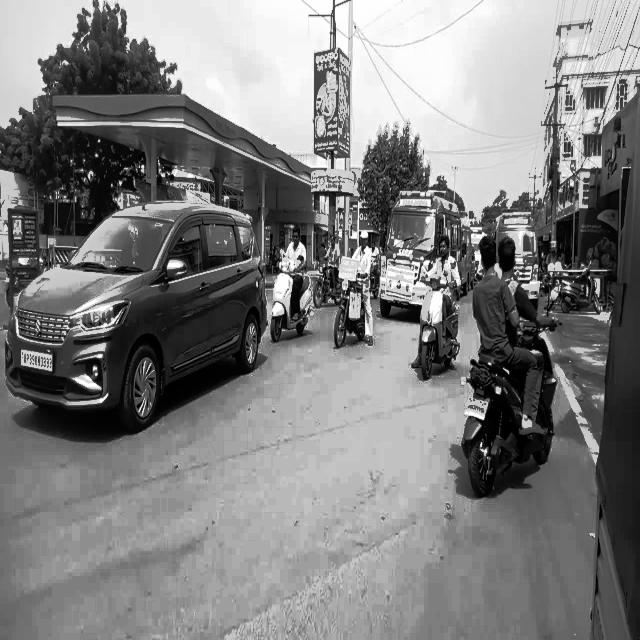Ambulance: (379, 188, 462, 297)
